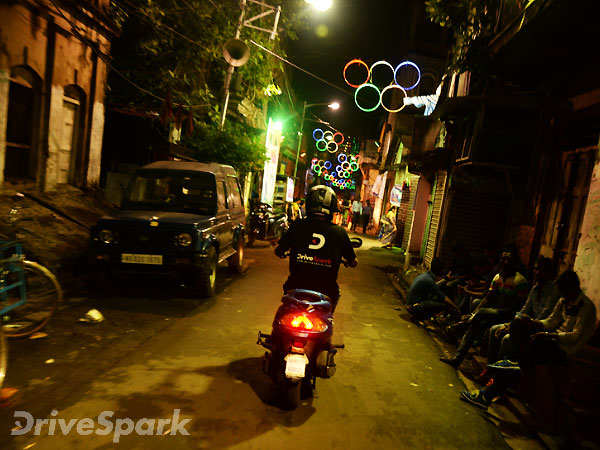bike: (262, 182, 346, 414), (247, 197, 289, 246)
car: (96, 155, 248, 297)
